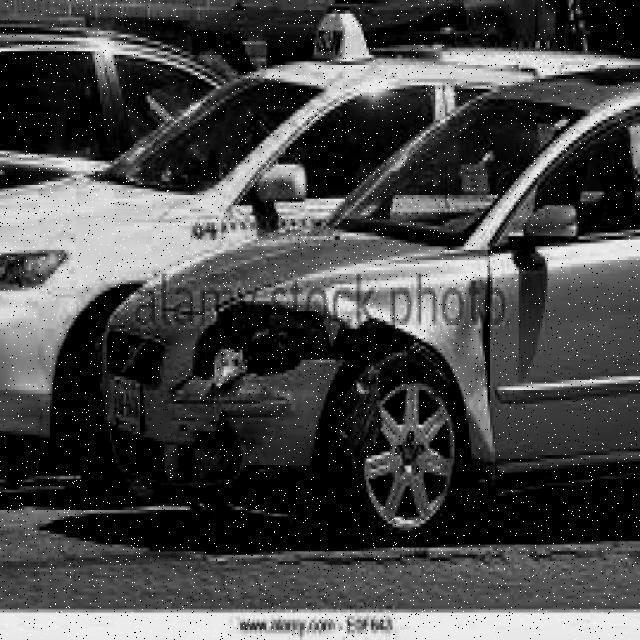car damage: (154, 256, 496, 503)
